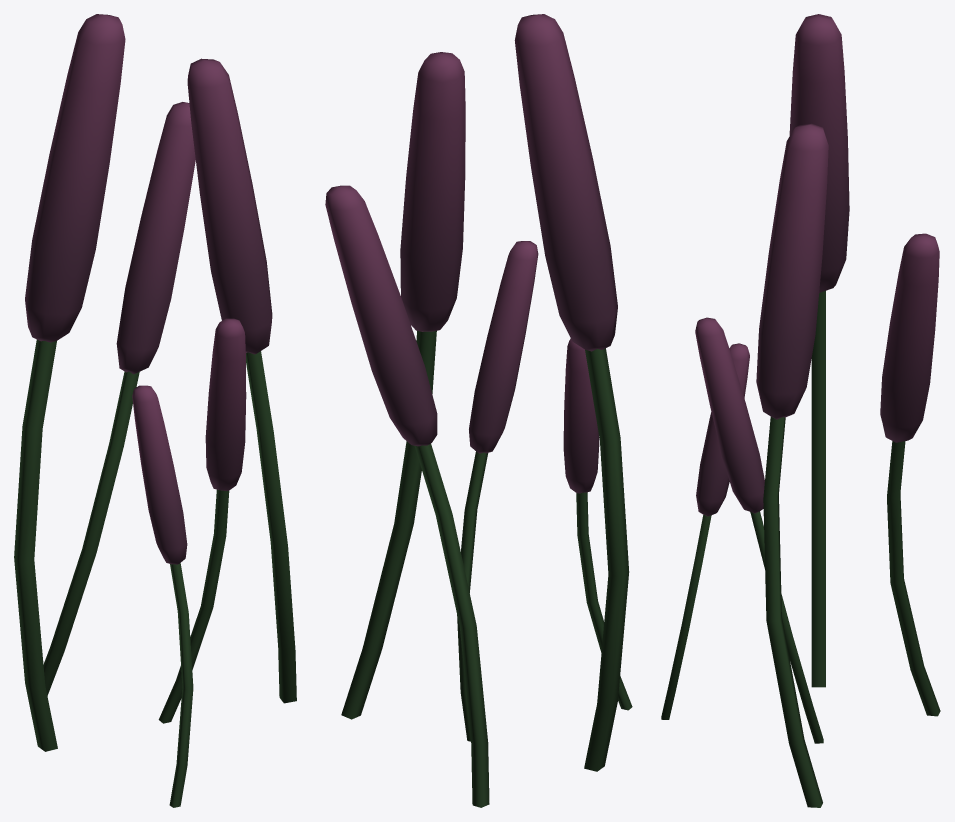
The model's file is Flowers_Purple.fbx.
3 renders of one model, left to right at view 1: azimuth 30°, elevation 25°; view 2: azimuth 150°, elevation 25°; view 3: azimuth 270°, elevation 25°, orthographic. The views are drawn at different scales.
Visible parts, largest first — view 1: Flowers_Purple; view 2: Flowers_Purple; view 3: Flowers_Purple.
Part boxes in pixels (bbox=[...]): Flowers_Purple: bbox=[14, 14, 296, 807]; Flowers_Purple: bbox=[325, 14, 632, 807]; Flowers_Purple: bbox=[661, 14, 940, 807].
Bounding box in the file's own units: 140 × 353 × 127.
